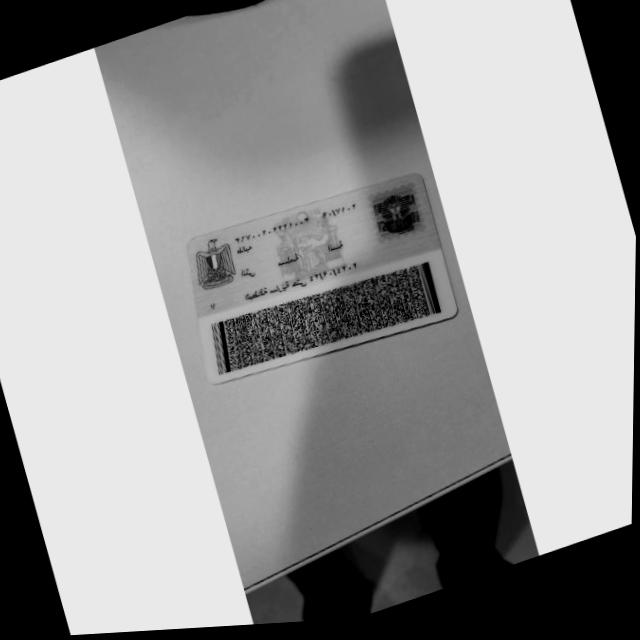back: (186, 173, 456, 381)
